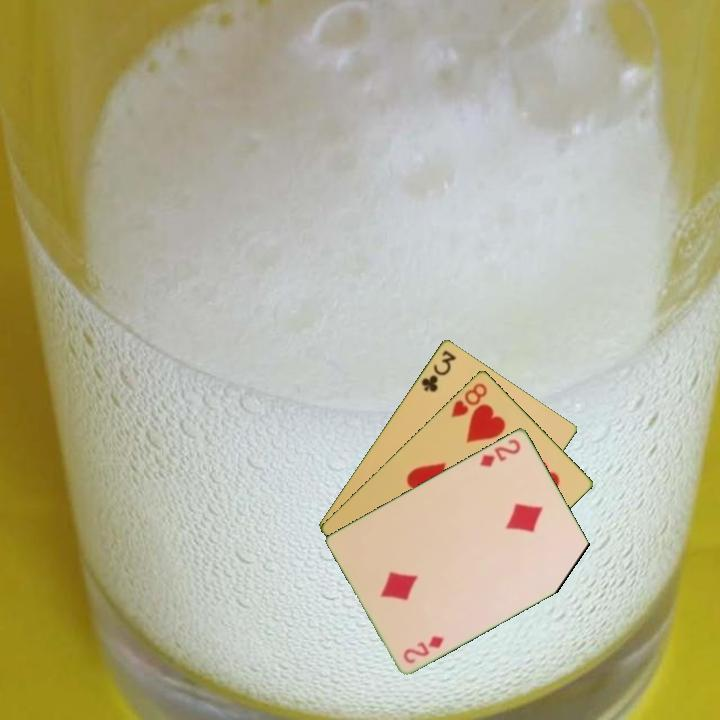2d: (476, 435, 524, 470), (399, 632, 447, 666)
3c: (417, 346, 459, 395)
8h: (448, 379, 490, 420)
